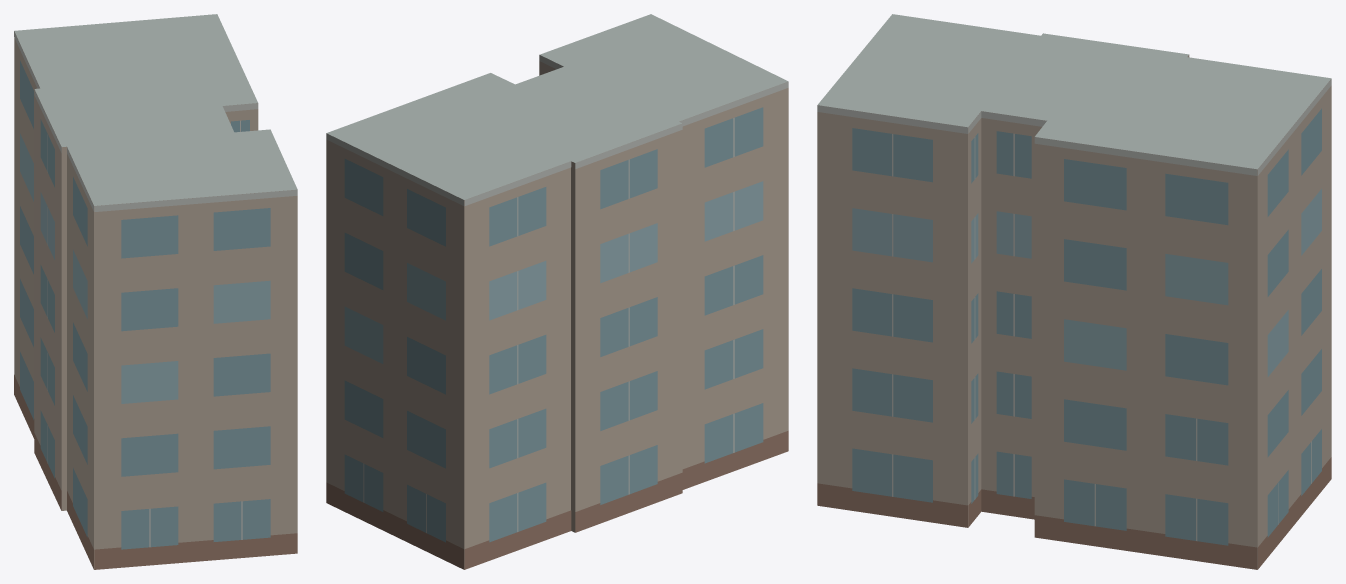
Rendered from survey-upis-32703308.glb.
3 renders of one model, left to right at view 1: azimuth 30°, elevation 25°; view 2: azimuth 150°, elevation 25°; view 3: azimuth 270°, elevation 25°, orthographic. The views are drawn at different scales.
Visible parts, largest first — view 1: survey-upis-32703308.tmp; view 2: survey-upis-32703308.tmp; view 3: survey-upis-32703308.tmp.
Part boxes in pixels (x1,y1,x2,y2): survey-upis-32703308.tmp: [14, 14, 297, 569]; survey-upis-32703308.tmp: [326, 14, 788, 569]; survey-upis-32703308.tmp: [817, 14, 1331, 569].
Bounding box in the file's own units: 11.98 × 14.4 × 16.77.
